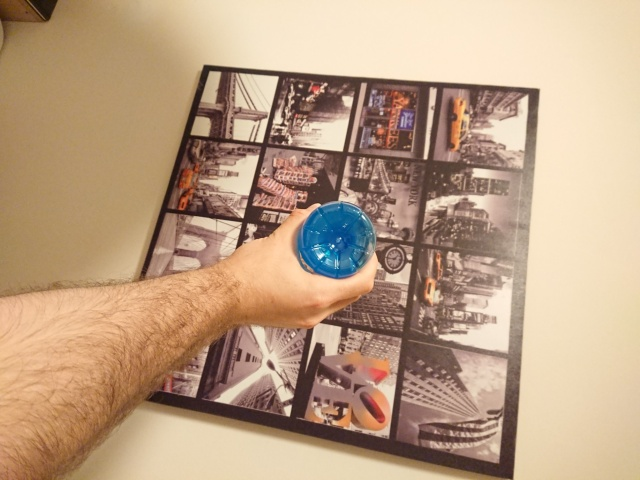Vindi Iso Sport Forest Strawberries 500mL: (295, 198, 377, 281)
